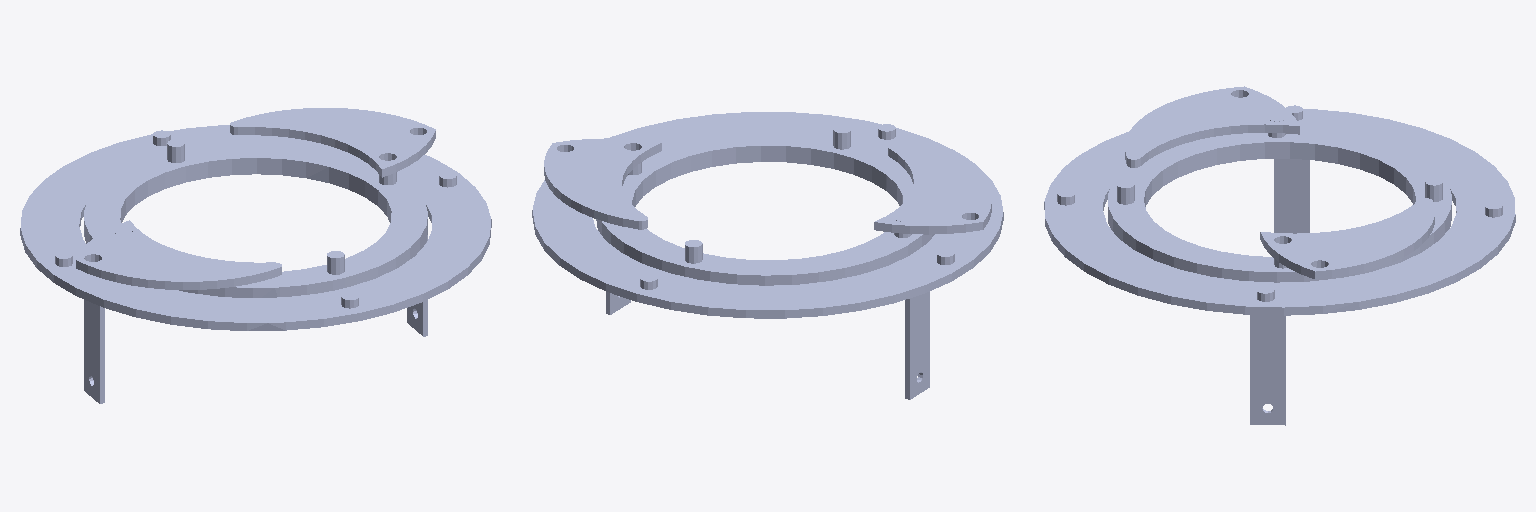
robot.urdf — Iris 4 Arm URDF:
<?xml version="1.0" encoding="utf-8"?>
<!-- This URDF was automatically created by SolidWorks to URDF Exporter! Originally created by [author] ([email redacted]) 
     Commit Version: 1.6.0-1-g15f4949  Build Version: 1.6.7594.29634
     For more information, please see http://wiki.ros.org/sw_urdf_exporter -->
<robot
  name="Iris 4 Arm URDF">
  <link
    name="base_link">
    <inertial>
      <origin
        xyz="0.118976069095555 0.102363460836218 0.167001551279831"
        rpy="0 0 0" />
      <mass
        value="0.127141903735899" />
      <inertia
        ixx="0.000799060413383533"
        ixy="-8.55708484011509E-20"
        ixz="-6.20296837801883E-06"
        iyy="0.00164900184112433"
        iyz="2.82347866577026E-19"
        izz="0.000891280010851742" />
    </inertial>
    <visual>
      <origin
        xyz="0 0 0"
        rpy="0 0 0" />
      <geometry>
        <mesh
          filename="package://Iris 4 Arm URDF/meshes/base_link.STL" />
      </geometry>
      <material
        name="">
        <color
          rgba="0.792156862745098 0.819607843137255 0.933333333333333 1" />
      </material>
    </visual>
    <collision>
      <origin
        xyz="0 0 0"
        rpy="0 0 0" />
      <geometry>
        <mesh
          filename="package://Iris 4 Arm URDF/meshes/base_link.STL" />
      </geometry>
    </collision>
  </link>
  <link
    name="mid_ring">
    <inertial>
      <origin
        xyz="-9.8394E-15 0.0052857 7.0222E-15"
        rpy="0 0 0" />
      <mass
        value="0.10996" />
      <inertia
        ixx="0.0004038"
        ixy="1.2993E-22"
        ixz="-1.6941E-21"
        iyy="0.00080515"
        iyz="-1.9734E-21"
        izz="0.0004038" />
    </inertial>
    <visual>
      <origin
        xyz="0 0 0"
        rpy="0 0 0" />
      <geometry>
        <mesh
          filename="package://Iris 4 Arm URDF/meshes/mid_ring.STL" />
      </geometry>
      <material
        name="">
        <color
          rgba="0.79216 0.81961 0.93333 1" />
      </material>
    </visual>
    <collision>
      <origin
        xyz="0 0 0"
        rpy="0 0 0" />
      <geometry>
        <mesh
          filename="package://Iris 4 Arm URDF/meshes/mid_ring.STL" />
      </geometry>
    </collision>
  </link>
  <joint
    name="Spin"
    type="continuous">
    <origin
      xyz="0.118976069095558 -0.167001551279828 0.102913963241254"
      rpy="1.5707963267949 0 0.0204298931169507" />
    <parent
      link="base_link" />
    <child
      link="mid_ring" />
    <axis
      xyz="0 1 0" />
  </joint>
  <link
    name="arm1">
    <inertial>
      <origin
        xyz="0.072116 0.0025 -0.054534"
        rpy="0 0 0" />
      <mass
        value="0.020095" />
      <inertia
        ixx="9.0078E-06"
        ixy="-1.3616E-22"
        ixz="-6.1573E-06"
        iyy="2.0107E-05"
        iyz="2.2489E-22"
        izz="1.1183E-05" />
    </inertial>
    <visual>
      <origin
        xyz="0 0 0"
        rpy="0 0 0" />
      <geometry>
        <mesh
          filename="package://Iris 4 Arm URDF/meshes/arm1.STL" />
      </geometry>
      <material
        name="">
        <color
          rgba="0.79216 0.81961 0.93333 1" />
      </material>
    </visual>
    <collision>
      <origin
        xyz="0 0 0"
        rpy="0 0 0" />
      <geometry>
        <mesh
          filename="package://Iris 4 Arm URDF/meshes/arm1.STL" />
      </geometry>
    </collision>
  </link>
  <joint
    name="arm1"
    type="fixed">
    <origin
      xyz="0.0016208 0.02 -0.0085339"
      rpy="0 -0.28193 0" />
    <parent
      link="mid_ring" />
    <child
      link="arm1" />
    <axis
      xyz="0 0 0" />
  </joint>
  <link
    name="arm2">
    <inertial>
      <origin
        xyz="0.072116 0.0025 -0.054534"
        rpy="0 0 0" />
      <mass
        value="0.020095" />
      <inertia
        ixx="9.0078E-06"
        ixy="4.6808E-23"
        ixz="-6.1573E-06"
        iyy="2.0107E-05"
        iyz="1.8276E-22"
        izz="1.1183E-05" />
    </inertial>
    <visual>
      <origin
        xyz="0 0 0"
        rpy="0 0 0" />
      <geometry>
        <mesh
          filename="package://Iris 4 Arm URDF/meshes/arm2.STL" />
      </geometry>
      <material
        name="">
        <color
          rgba="0.79216 0.81961 0.93333 1" />
      </material>
    </visual>
    <collision>
      <origin
        xyz="0 0 0"
        rpy="0 0 0" />
      <geometry>
        <mesh
          filename="package://Iris 4 Arm URDF/meshes/arm2.STL" />
      </geometry>
    </collision>
  </link>
  <joint
    name="arm2"
    type="fixed">
    <origin
      xyz="-0.0016208 0.015 0.0085339"
      rpy="3.1416 0.28193 3.1416" />
    <parent
      link="mid_ring" />
    <child
      link="arm2" />
    <axis
      xyz="0 0 0" />
  </joint>
</robot>

--- Facts derived from the render (not from the file) ---
3 views of the same robot in one strip: view 1: azimuth 30°, elevation 25°; view 2: azimuth 150°, elevation 25°; view 3: azimuth 270°, elevation 25° (orthographic).
Model Iris 4 Arm URDF with 4 links and 3 joints (1 continuous, 2 fixed), rooted at base_link, posed all joints at 0.
Links seen in each view (by area): view 1: base_link, mid_ring, arm1, arm2; view 2: base_link, mid_ring, arm1, arm2; view 3: base_link, mid_ring, arm1, arm2.
Boxes of the visible links, box(x1,y1,x2,y2) form: base_link: box(20, 125, 491, 403); mid_ring: box(84, 139, 427, 297); arm1: box(230, 108, 435, 177); arm2: box(76, 220, 281, 289); base_link: box(532, 112, 1003, 399); mid_ring: box(596, 126, 934, 285); arm1: box(544, 138, 661, 229); arm2: box(874, 143, 991, 234); base_link: box(1044, 105, 1515, 425); mid_ring: box(1108, 114, 1451, 282); arm1: box(1260, 198, 1434, 279); arm2: box(1125, 86, 1299, 167).
Bounding box of the posed robot: 0.26 × 0.2594 × 0.105 m (x, y, z).
4 mesh visuals loaded from 4 distinct referenced files (4 binary STL).